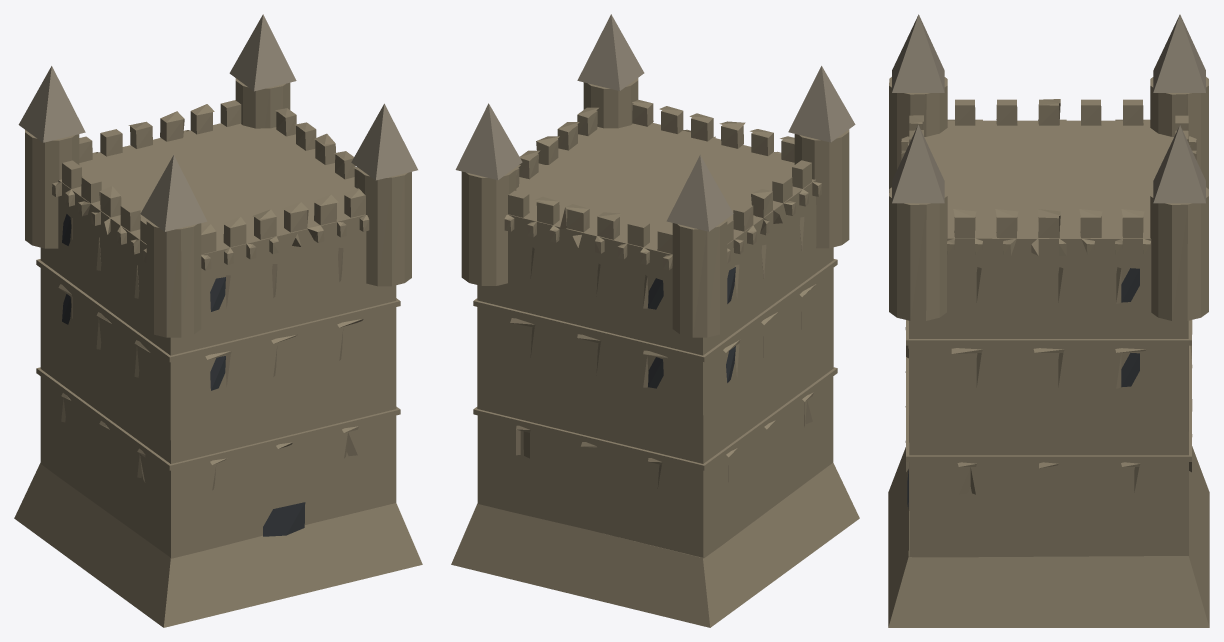
The model's file is castle-keep-lod1.glb.
The picture shows the model from 3 angles, left to right: view 1: azimuth 30°, elevation 25°; view 2: azimuth 150°, elevation 25°; view 3: azimuth 270°, elevation 25°; orthographic projection. The views are drawn at different scales.
Bounding box in the file's own units: 13.76 × 23.2 × 13.76.
